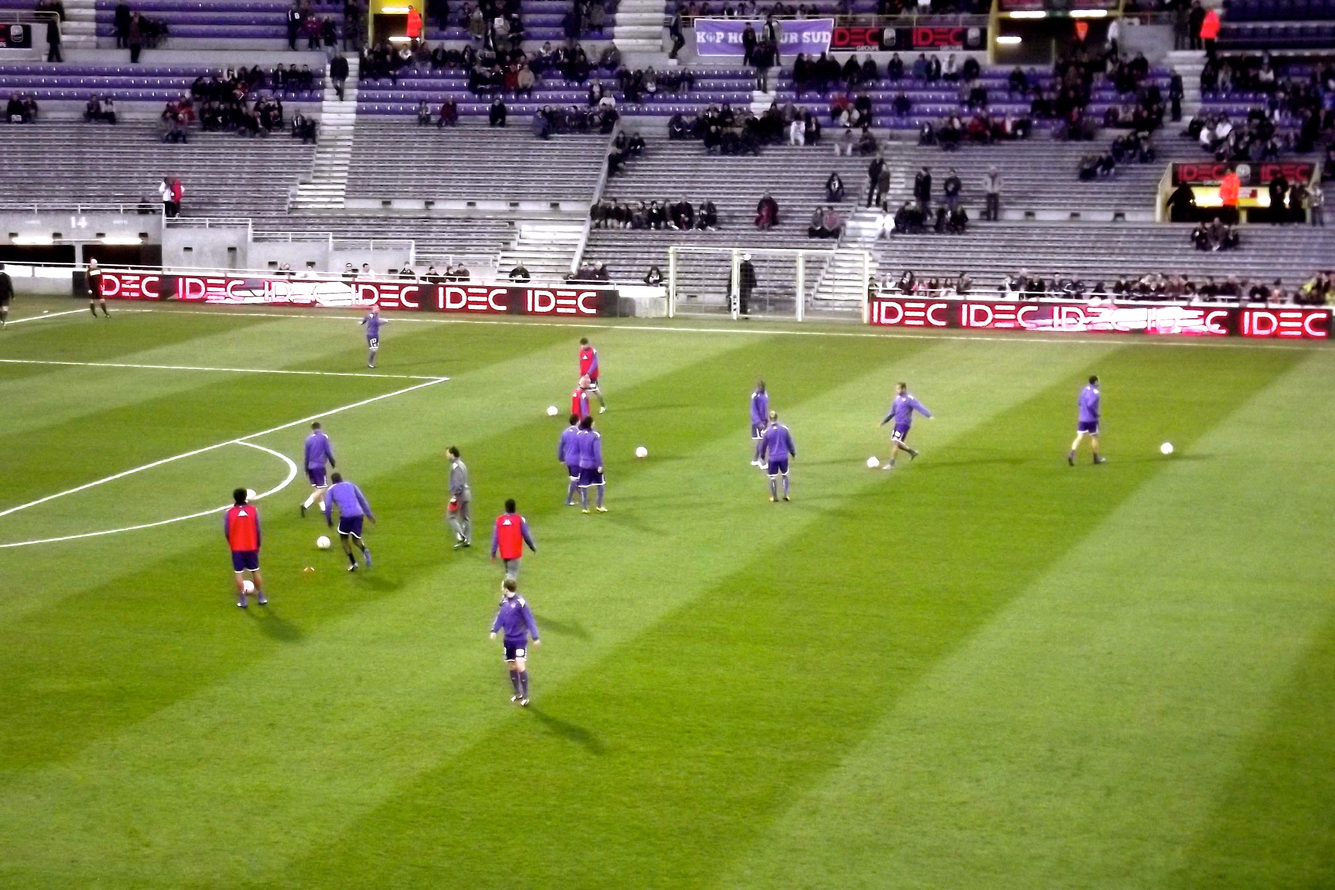ballon_football: (1160, 439, 1174, 456), (317, 534, 330, 551), (241, 579, 255, 594), (636, 444, 648, 459), (867, 455, 879, 469), (546, 405, 558, 417), (245, 488, 256, 501)
